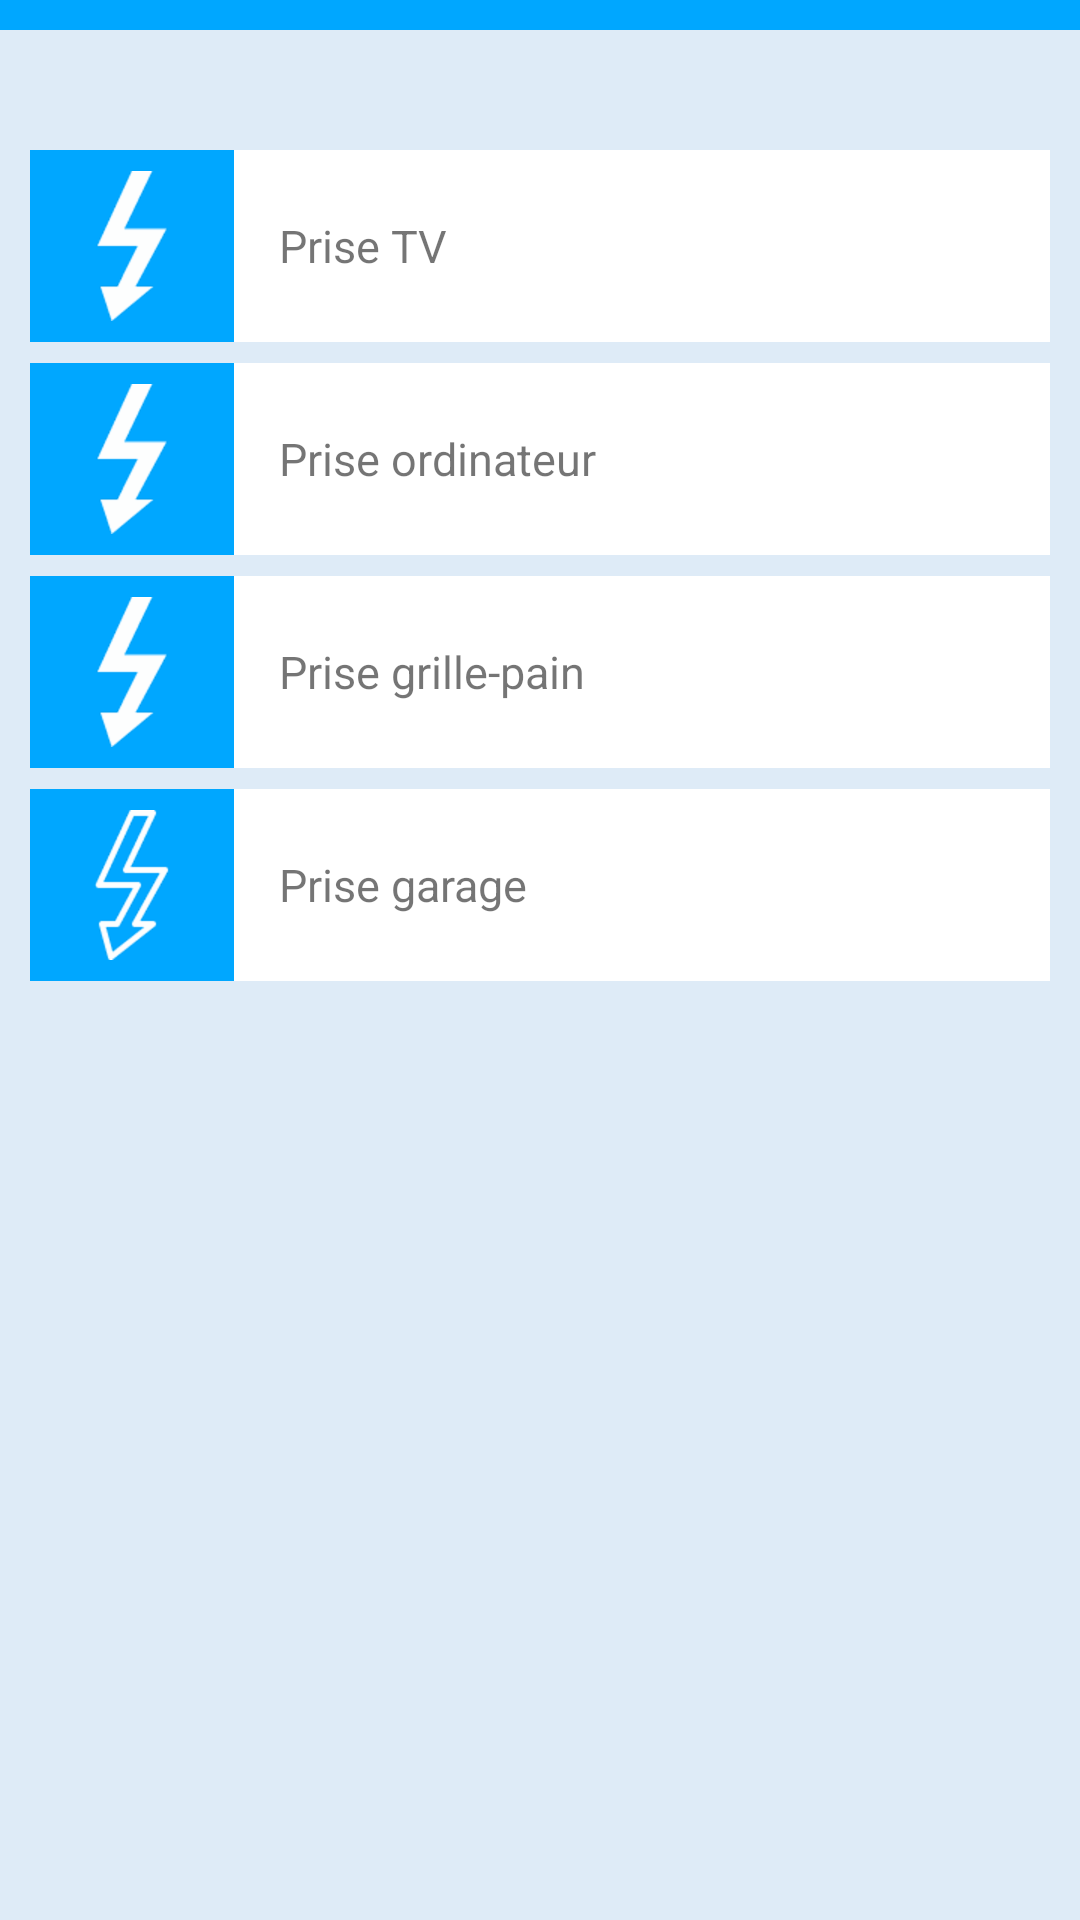

Where icons sit on this 1080px x 1920px app screen, as rect(x1, y1, x2, y2):
electricity fat: rect(30, 150, 234, 342), rect(30, 363, 234, 555), rect(30, 576, 234, 768)
